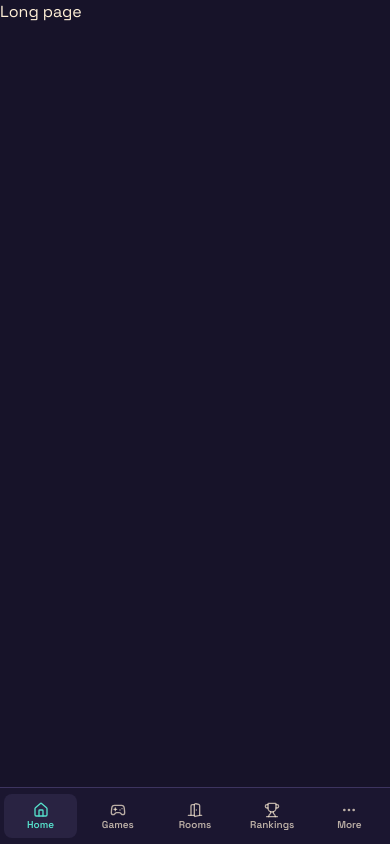
it: Shared Dashboard Layout & Sidebar Structure › exposes every remaining section plus utilities through the mobile More drawer
Click the button with test id "mobile-nav-more" at (349, 816), box [313, 794, 386, 838]
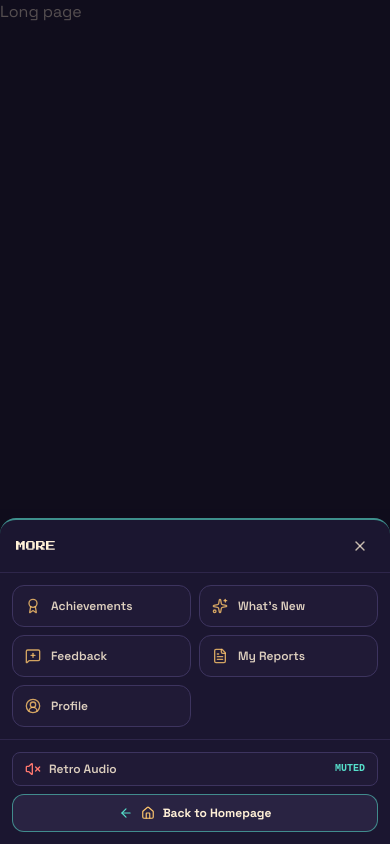
Check: the dialog with test id "dashboard-mobile-more-drawer" is shown, box [0, 518, 389, 843]
Check: the button with test id "mobile-more-nav-my-reports" is shown
Click the button with test id "mobile-more-nav-my-reports" at (288, 656), box [199, 635, 378, 677]
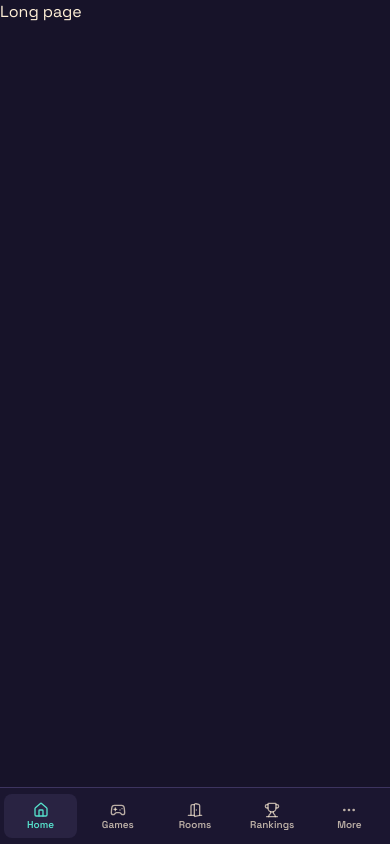
Check: the dialog with test id "dashboard-mobile-more-drawer" is gone
Click the button with test id "mobile-nav-more" at (349, 816), box [313, 794, 386, 838]
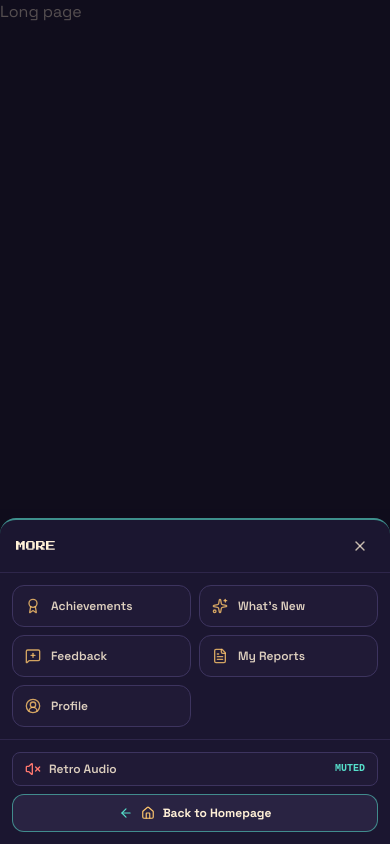
Click the button with test id "mobile-more-public-home-btn" at (195, 813), box [12, 794, 378, 832]
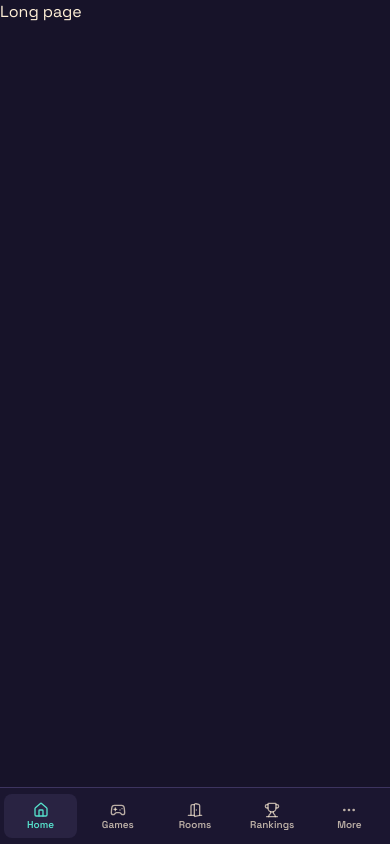
Click the button with test id "mobile-nav-more" at (349, 816), box [313, 794, 386, 838]
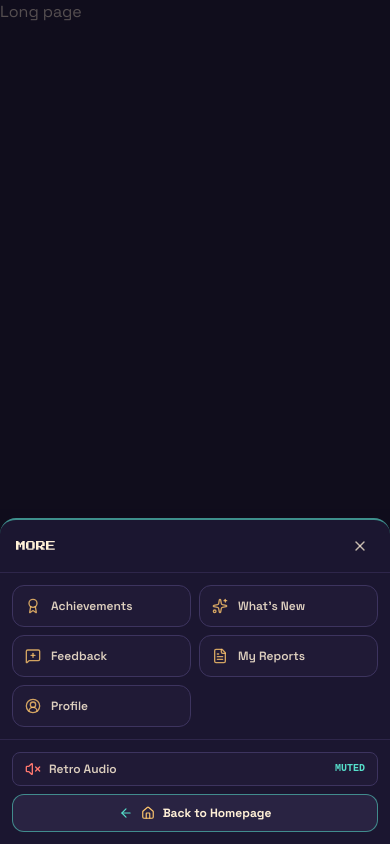
Press Escape
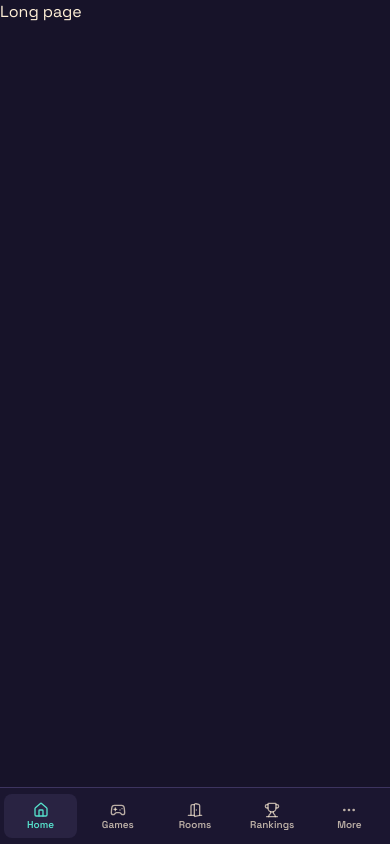
Check: the dialog with test id "dashboard-mobile-more-drawer" is gone
